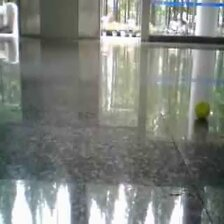tennis: (194, 101, 209, 120)
